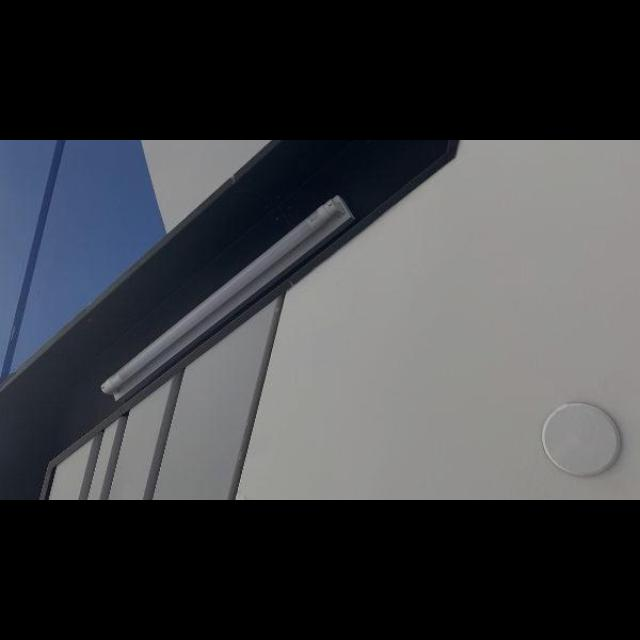Straight-Tube-Fluorescent-Lamp: (92, 176, 362, 420)
